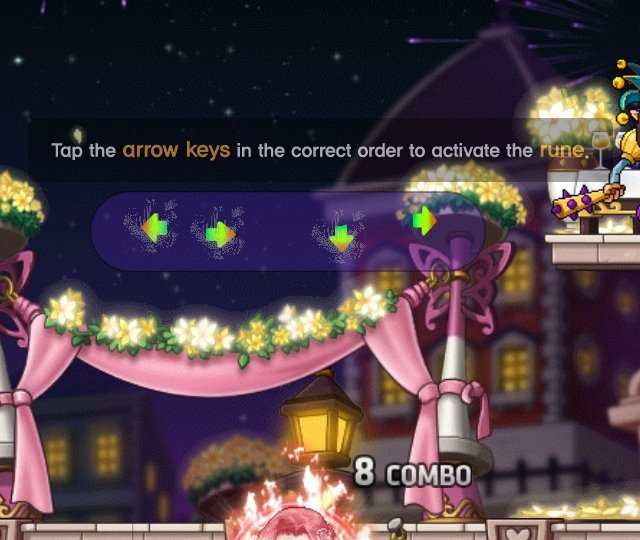rune_box: (84, 181, 496, 281)
